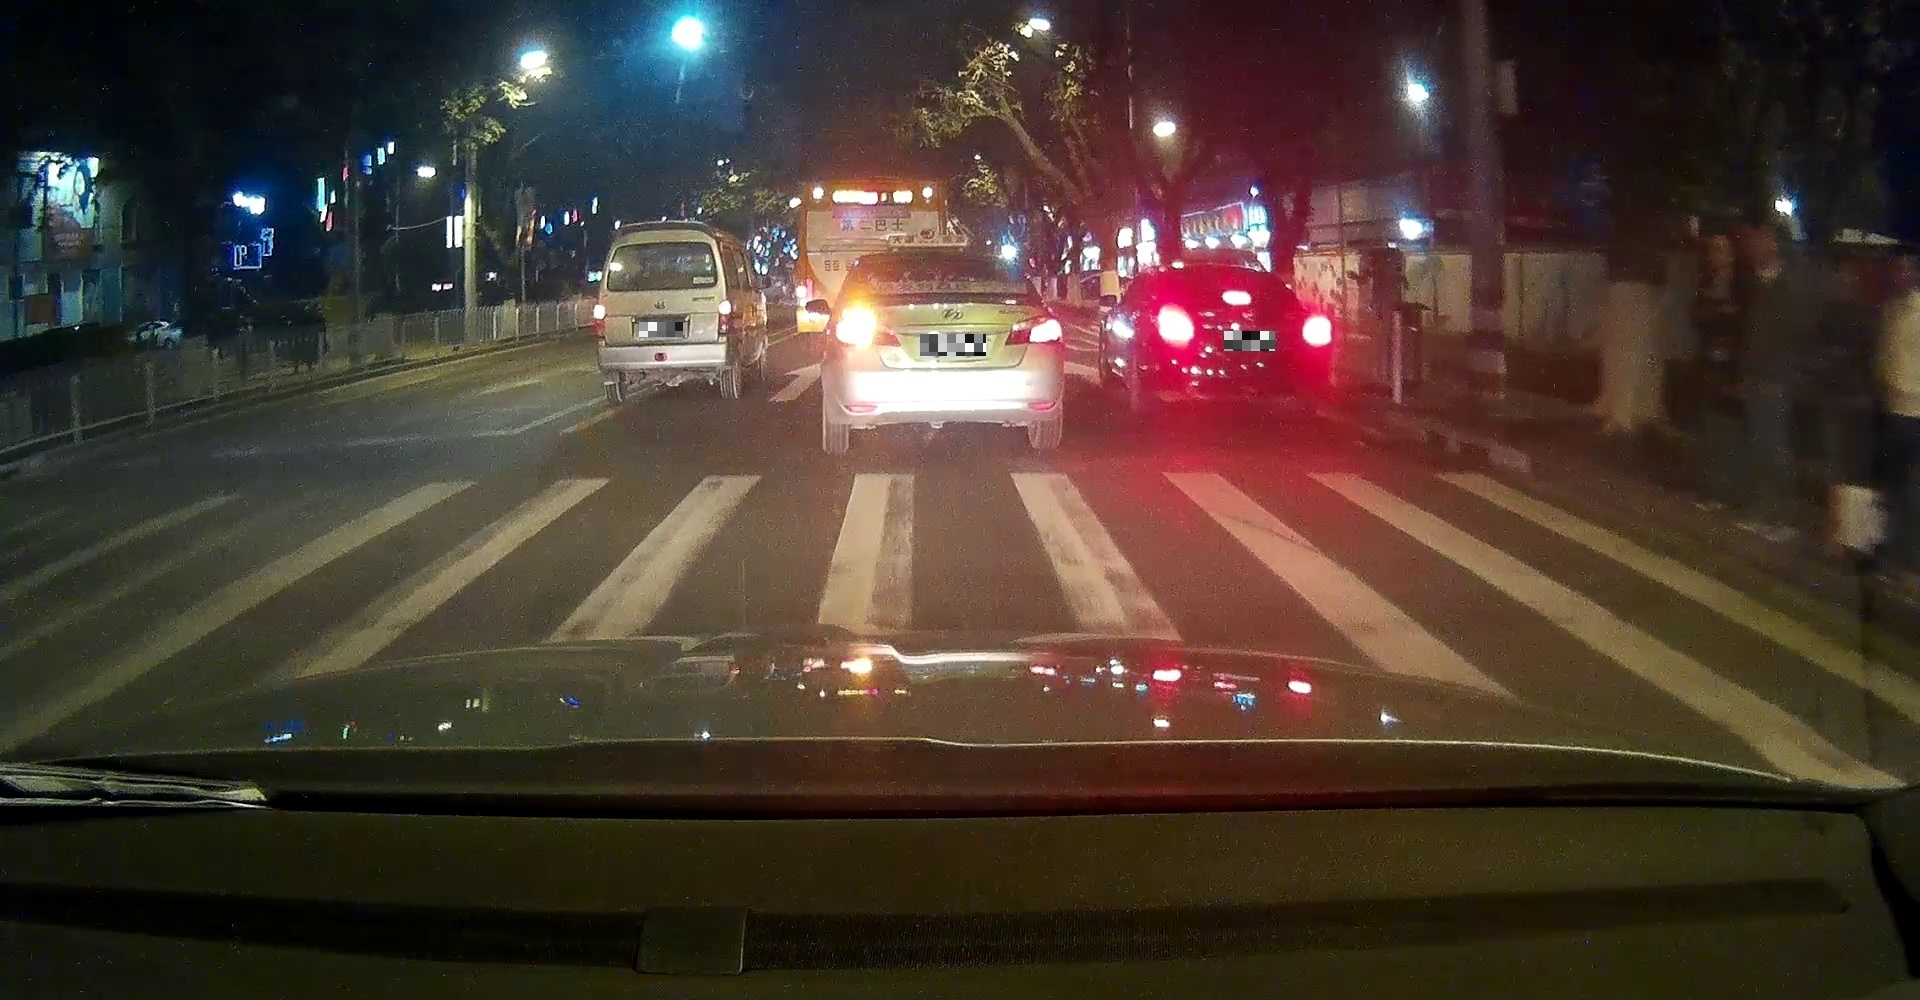L_light: (833, 303, 903, 346), (1153, 301, 1196, 346), (592, 305, 606, 336)
R_light: (1002, 313, 1064, 345), (1300, 313, 1333, 348), (717, 298, 733, 336)
T_light: (1222, 288, 1252, 307), (922, 254, 957, 261), (648, 237, 673, 242)
night-brake: (1130, 261, 1335, 411)
night-left: (827, 247, 1065, 453)
night-no: (590, 221, 733, 402)
plate_1: (639, 322, 683, 338)
plate_2: (919, 334, 985, 357)
plate_3: (1224, 331, 1275, 352)
